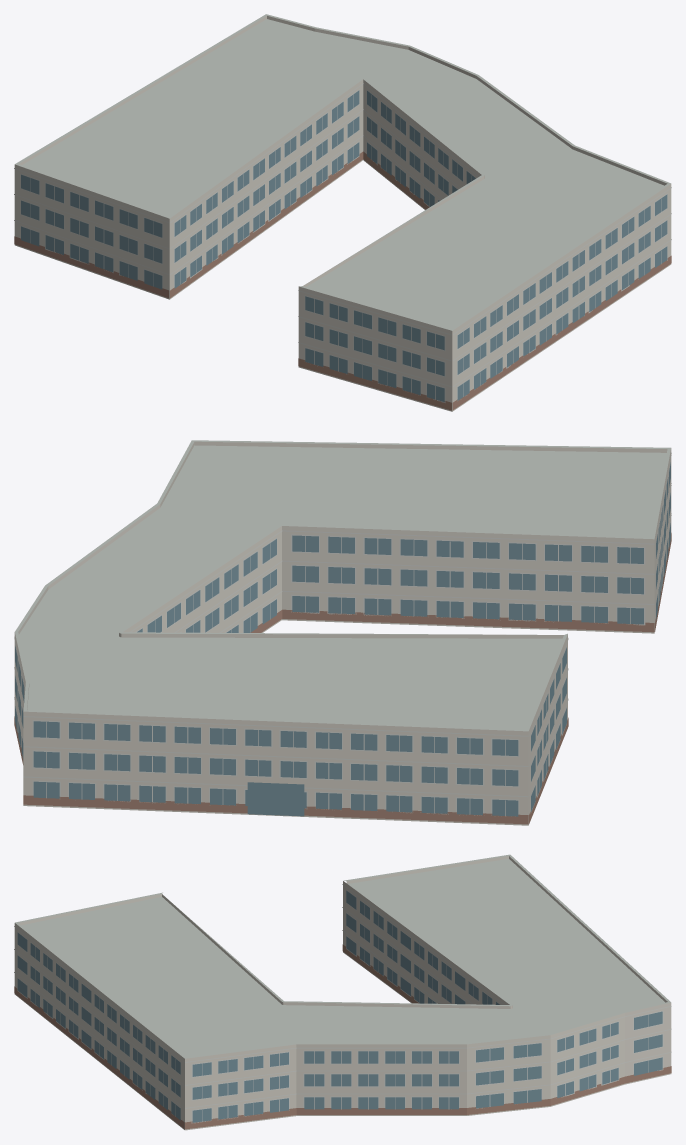
Rendered from public-e47d1015-1eaf-41ca-b409-be53376dbb2a.glb.
The picture shows the model from 3 angles, top to bottom: view 1: azimuth 30°, elevation 25°; view 2: azimuth 150°, elevation 25°; view 3: azimuth 270°, elevation 25°; orthographic projection. The views are drawn at different scales.
Parts seen in each view (by area): view 1: public-e47d1015-1eaf-41ca-b409-be53376dbb2a; view 2: public-e47d1015-1eaf-41ca-b409-be53376dbb2a; view 3: public-e47d1015-1eaf-41ca-b409-be53376dbb2a.
Boxes of the visible parts, left/top/right/bottom form: public-e47d1015-1eaf-41ca-b409-be53376dbb2a: left=14, top=14, right=671, bottom=411; public-e47d1015-1eaf-41ca-b409-be53376dbb2a: left=14, top=440, right=671, bottom=825; public-e47d1015-1eaf-41ca-b409-be53376dbb2a: left=14, top=854, right=671, bottom=1130.
Bounding box in the file's own units: 56.03 × 9.15 × 76.09.
